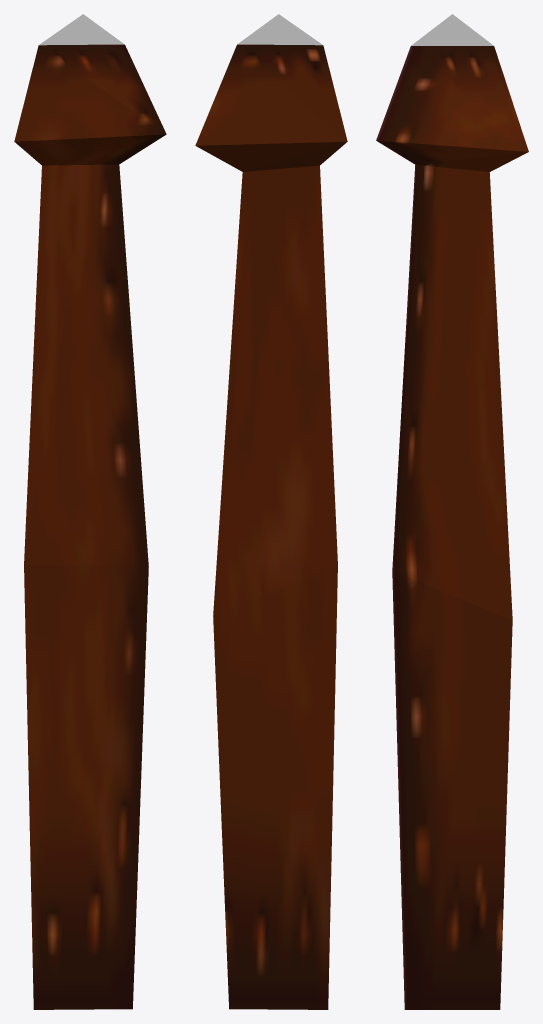
The model's file is Säule_Schlank [Rostig]_1489.glb.
3 renders of one model, left to right at view 1: azimuth 30°, elevation 25°; view 2: azimuth 150°, elevation 25°; view 3: azimuth 270°, elevation 25°, orthographic.
Visible parts, largest first — view 1: pCylinderShape102, polySurfaceShape1076; view 2: pCylinderShape102, polySurfaceShape1076; view 3: pCylinderShape102, polySurfaceShape1076.
Boxes of the visible parts, left/top/right/bottom form: pCylinderShape102: left=14, top=44, right=166, bottom=1009; polySurfaceShape1076: left=39, top=14, right=124, bottom=45; pCylinderShape102: left=195, top=44, right=347, bottom=1009; polySurfaceShape1076: left=237, top=14, right=322, bottom=45; pCylinderShape102: left=376, top=46, right=528, bottom=1009; polySurfaceShape1076: left=411, top=14, right=493, bottom=45.
Bounding box in the file's own units: 0.047 × 0.3793 × 0.0547.
2 materials, 1 textured.
